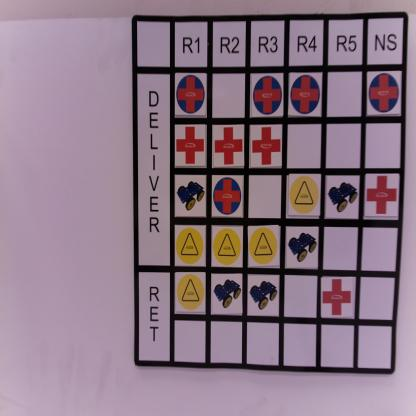OrderBlue: (290, 73, 323, 118), (176, 74, 209, 118), (253, 75, 285, 119), (370, 73, 403, 114), (176, 125, 207, 168), (215, 177, 246, 218)
OrderGurney: (328, 177, 360, 219), (249, 276, 281, 317), (288, 228, 319, 269), (176, 176, 207, 216), (213, 275, 242, 314)
OrderRed: (366, 174, 400, 221), (251, 124, 283, 170), (322, 277, 355, 321), (214, 125, 246, 167), (177, 125, 207, 167)
OrderYellow: (289, 175, 321, 217), (213, 226, 244, 269), (176, 226, 207, 267), (250, 227, 281, 268), (177, 274, 207, 313)
